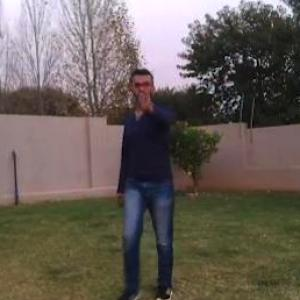takeoff-hand: (129, 82, 158, 115)
